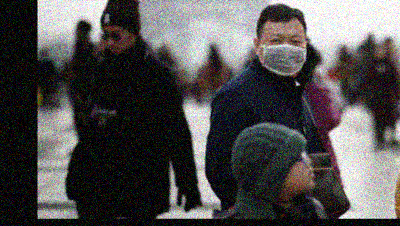with_mask: (259, 32, 309, 76)
without_mask: (287, 151, 316, 195), (100, 26, 132, 55)
